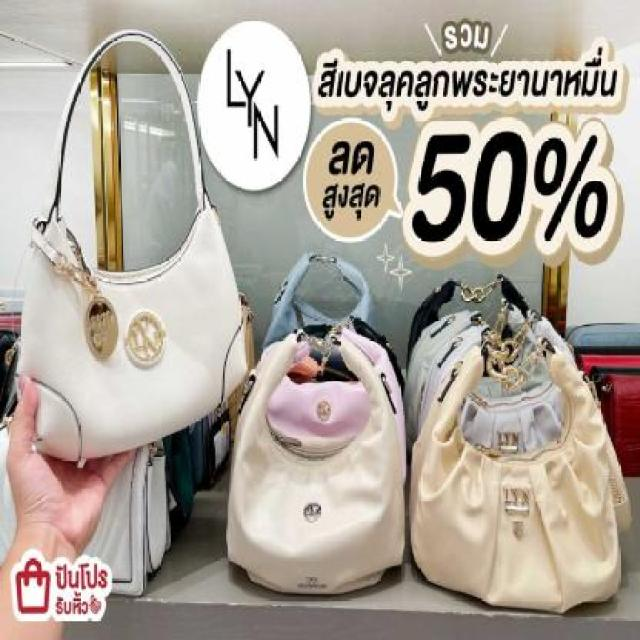Bag: (0, 0, 269, 469), (402, 332, 638, 630), (218, 308, 412, 620)
